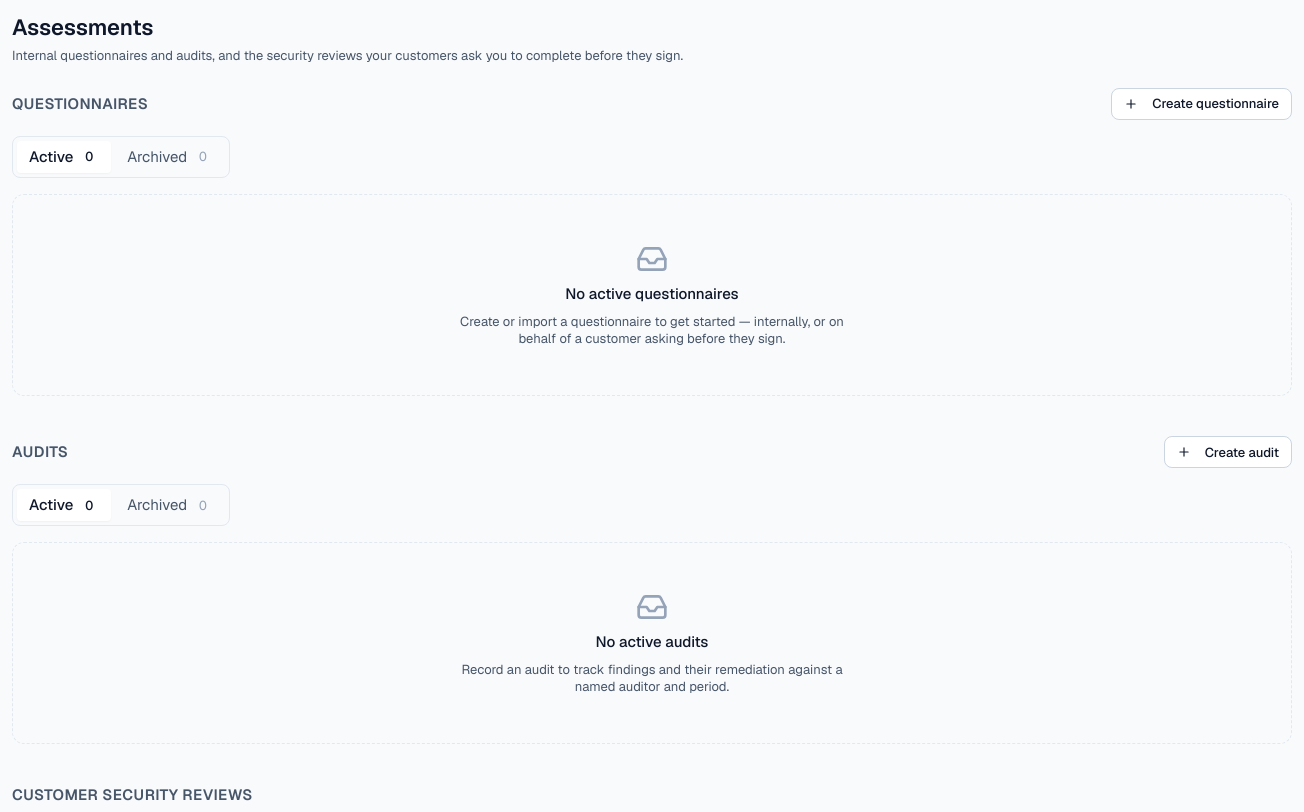
Questionnaires › will not create a customer questionnaire with no customer
Click the button "Create questionnaire" at (1202, 104), box [1111,88,1292,120]
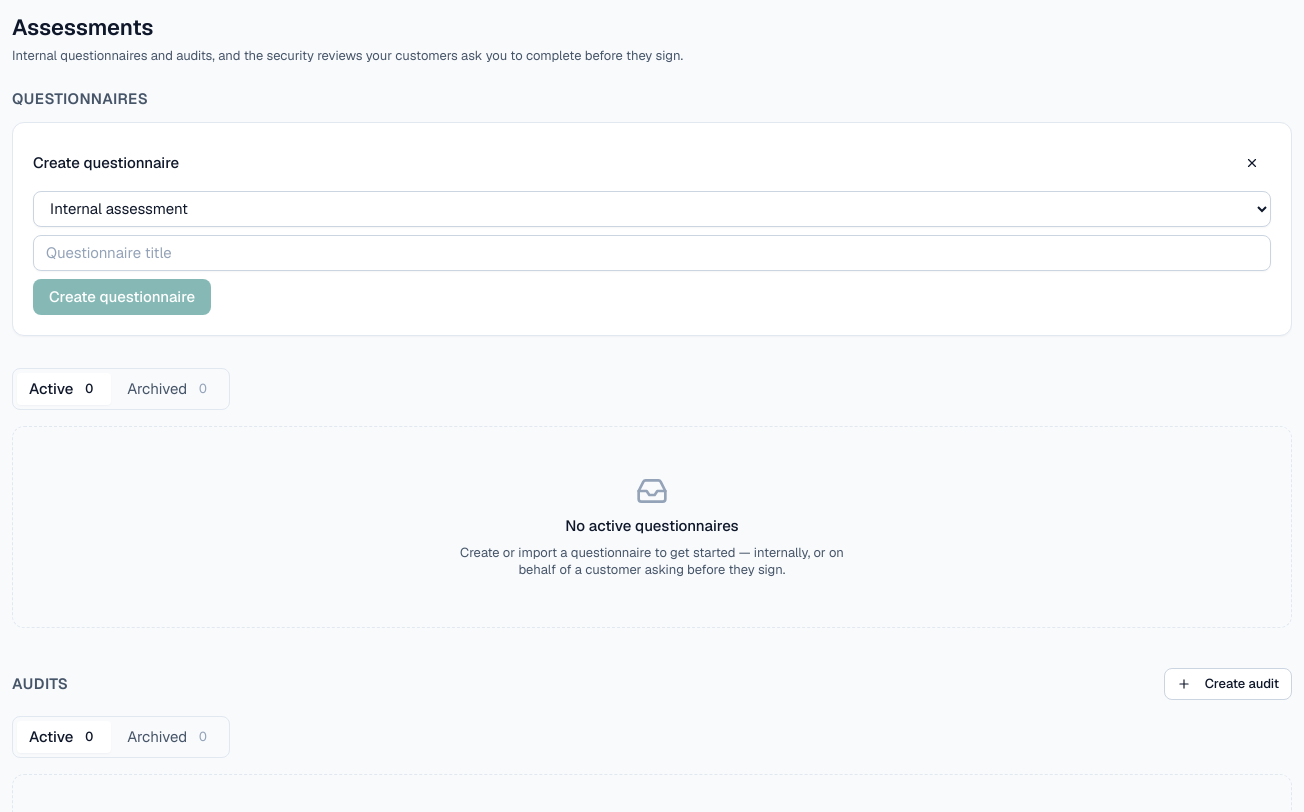
Type "Acme Customer Security Questionnaire" into the field with placeholder "Questionnaire title" at (652, 252), box [33,234,1271,270]
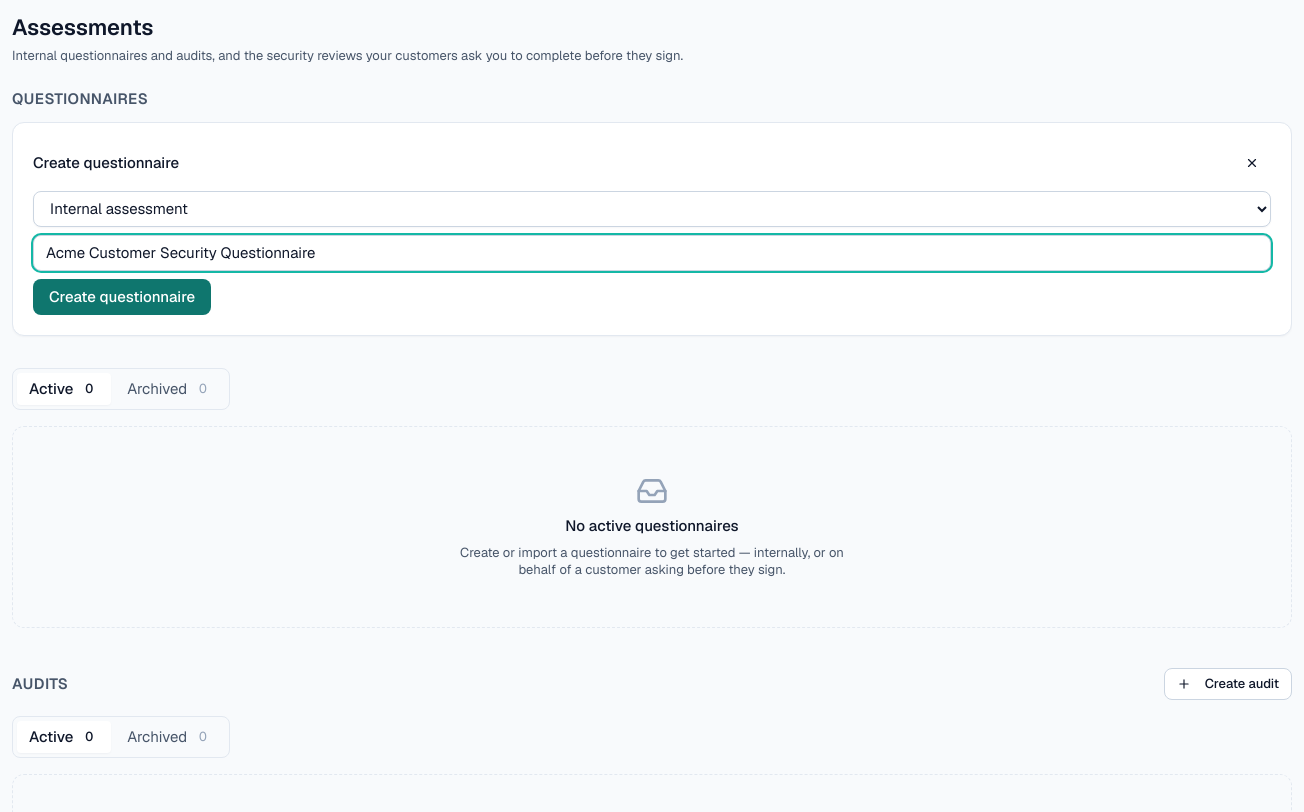
Select "Customer security questionnaire" in the dropdown showing "Internal assessment" at (652, 208), box [33,190,1271,226]
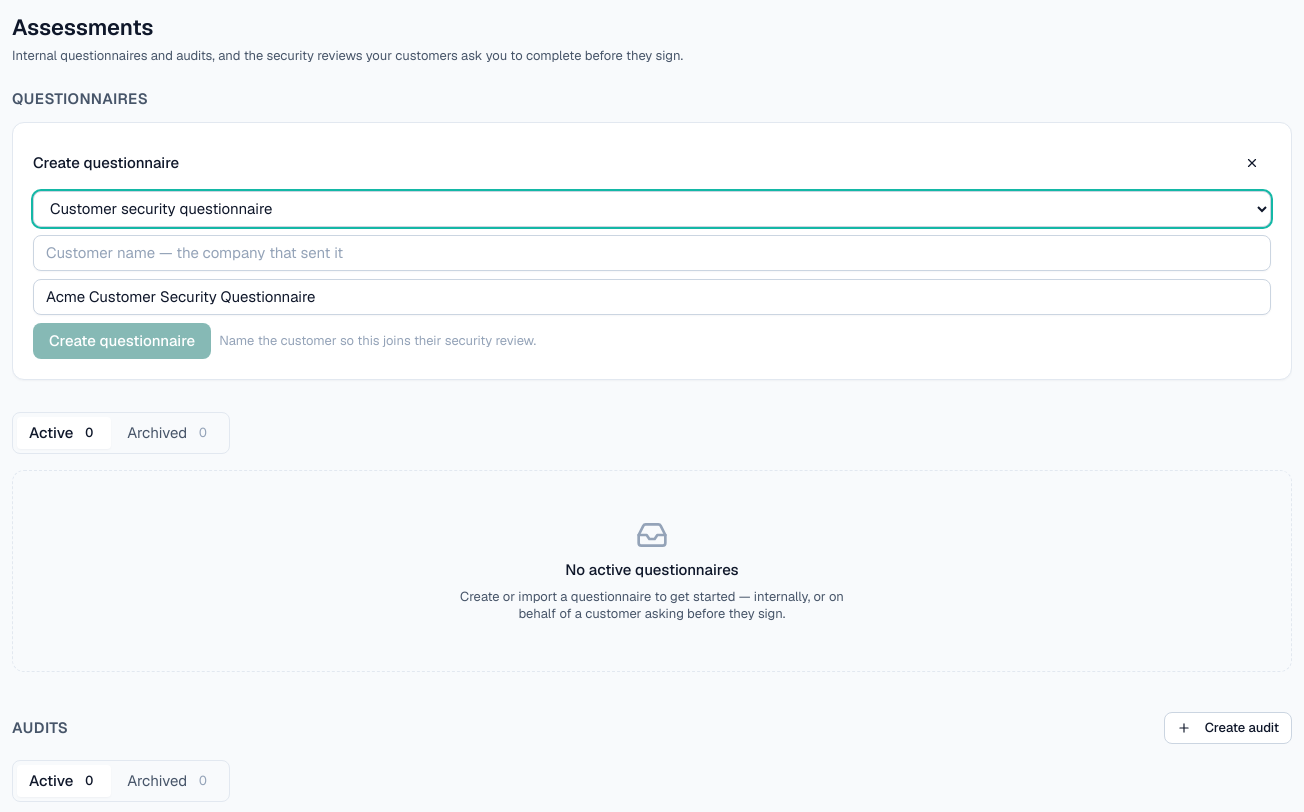
Now the button "Create questionnaire" is disabled, box [33,322,211,358]
Now the text "Name the customer so this joins their security review." is shown, box [219,332,536,349]
Type "Acme Corp" into the field labelled "Customer" at (652, 252), box [33,234,1271,270]
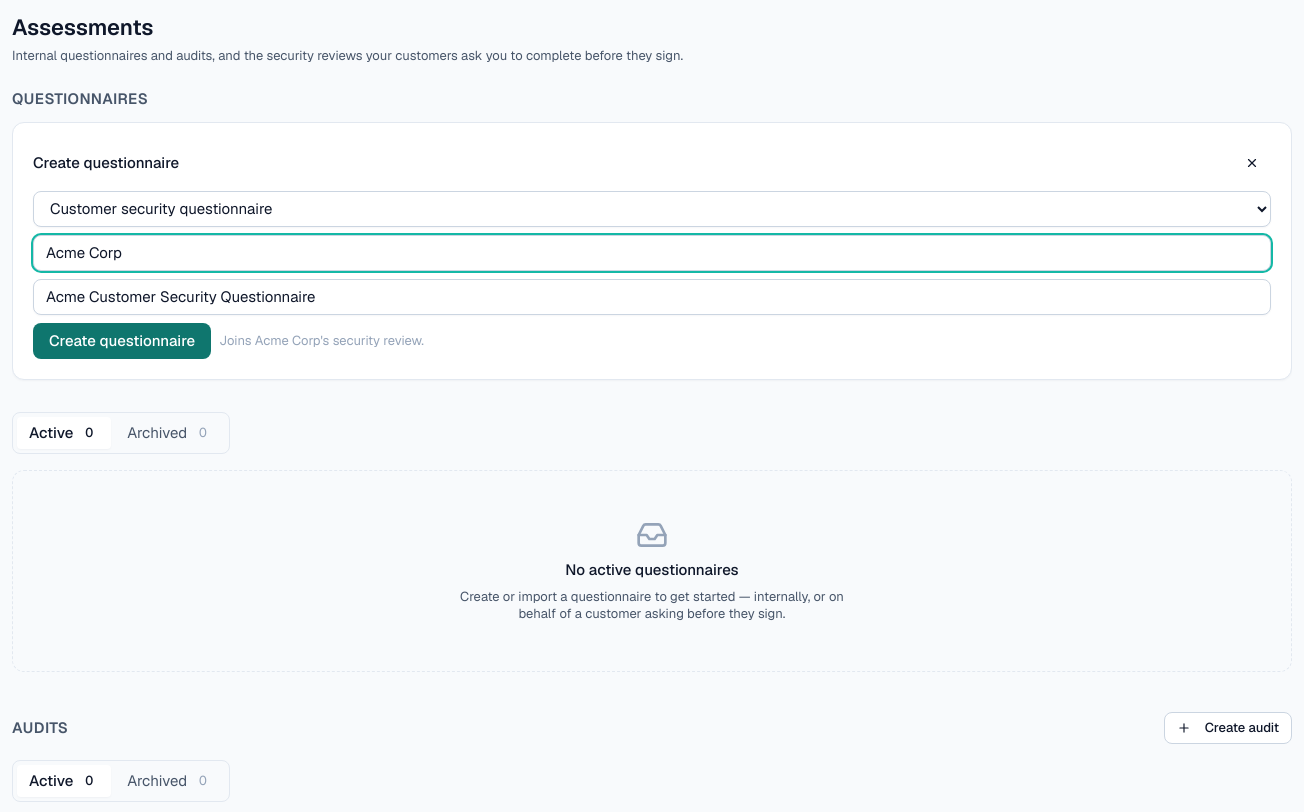
Now the button "Create questionnaire" is enabled, box [33,322,211,358]
Now the text "Joins Acme Corp's security review." is shown, box [219,332,424,349]
